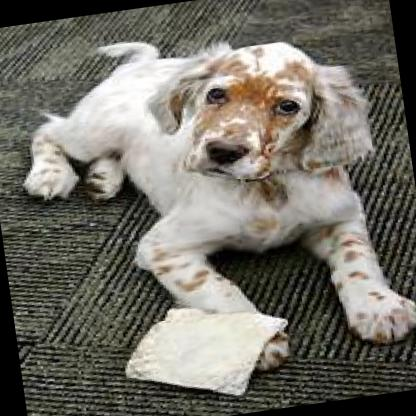English_setter: (3, 3, 416, 393)
